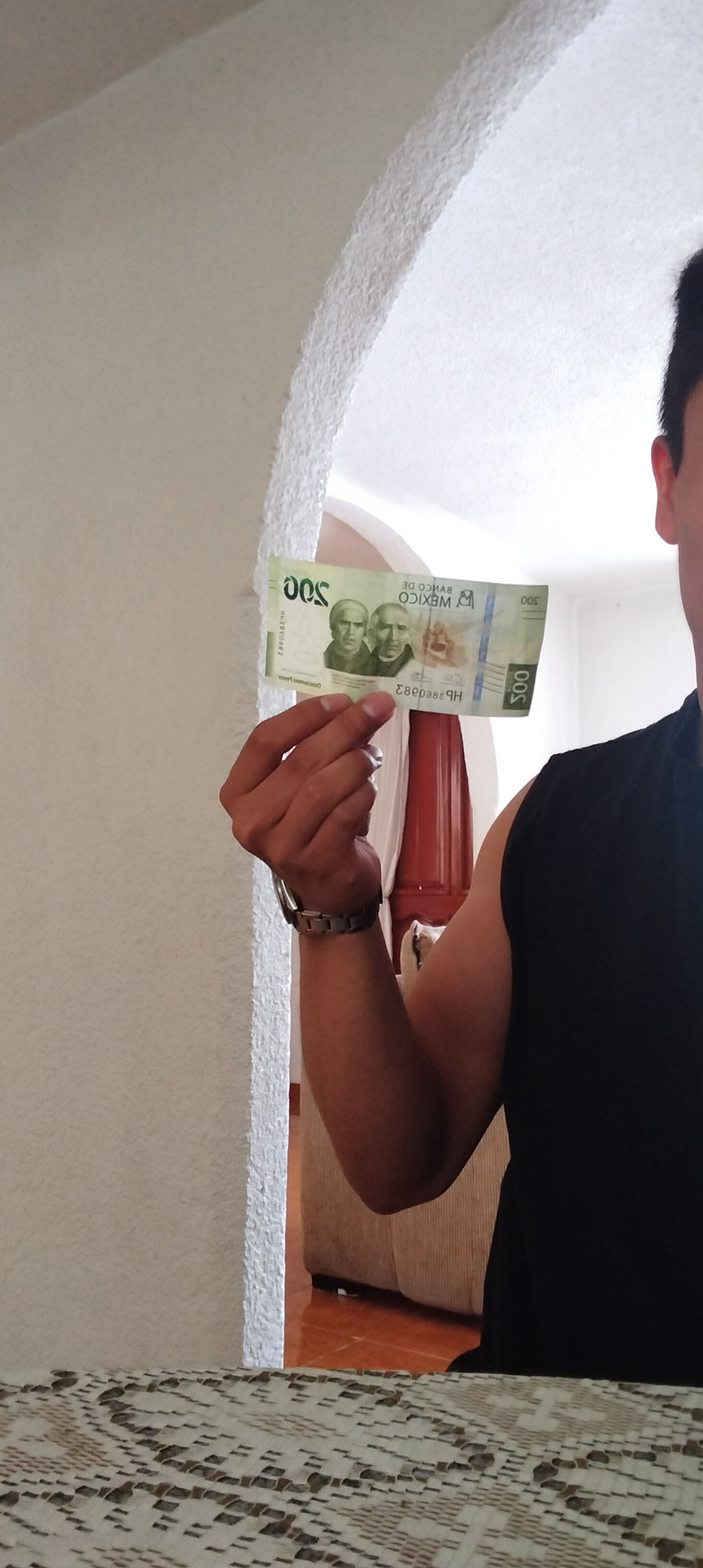billetes: (238, 536, 562, 740)
